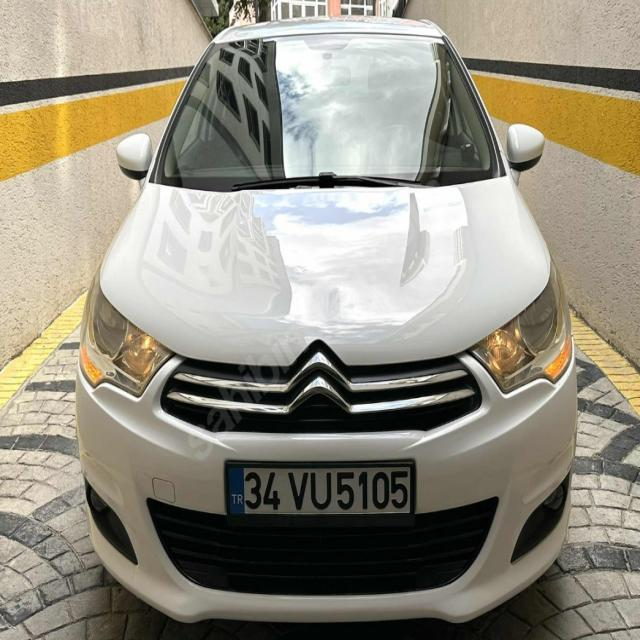citroen: (285, 339, 354, 422)
